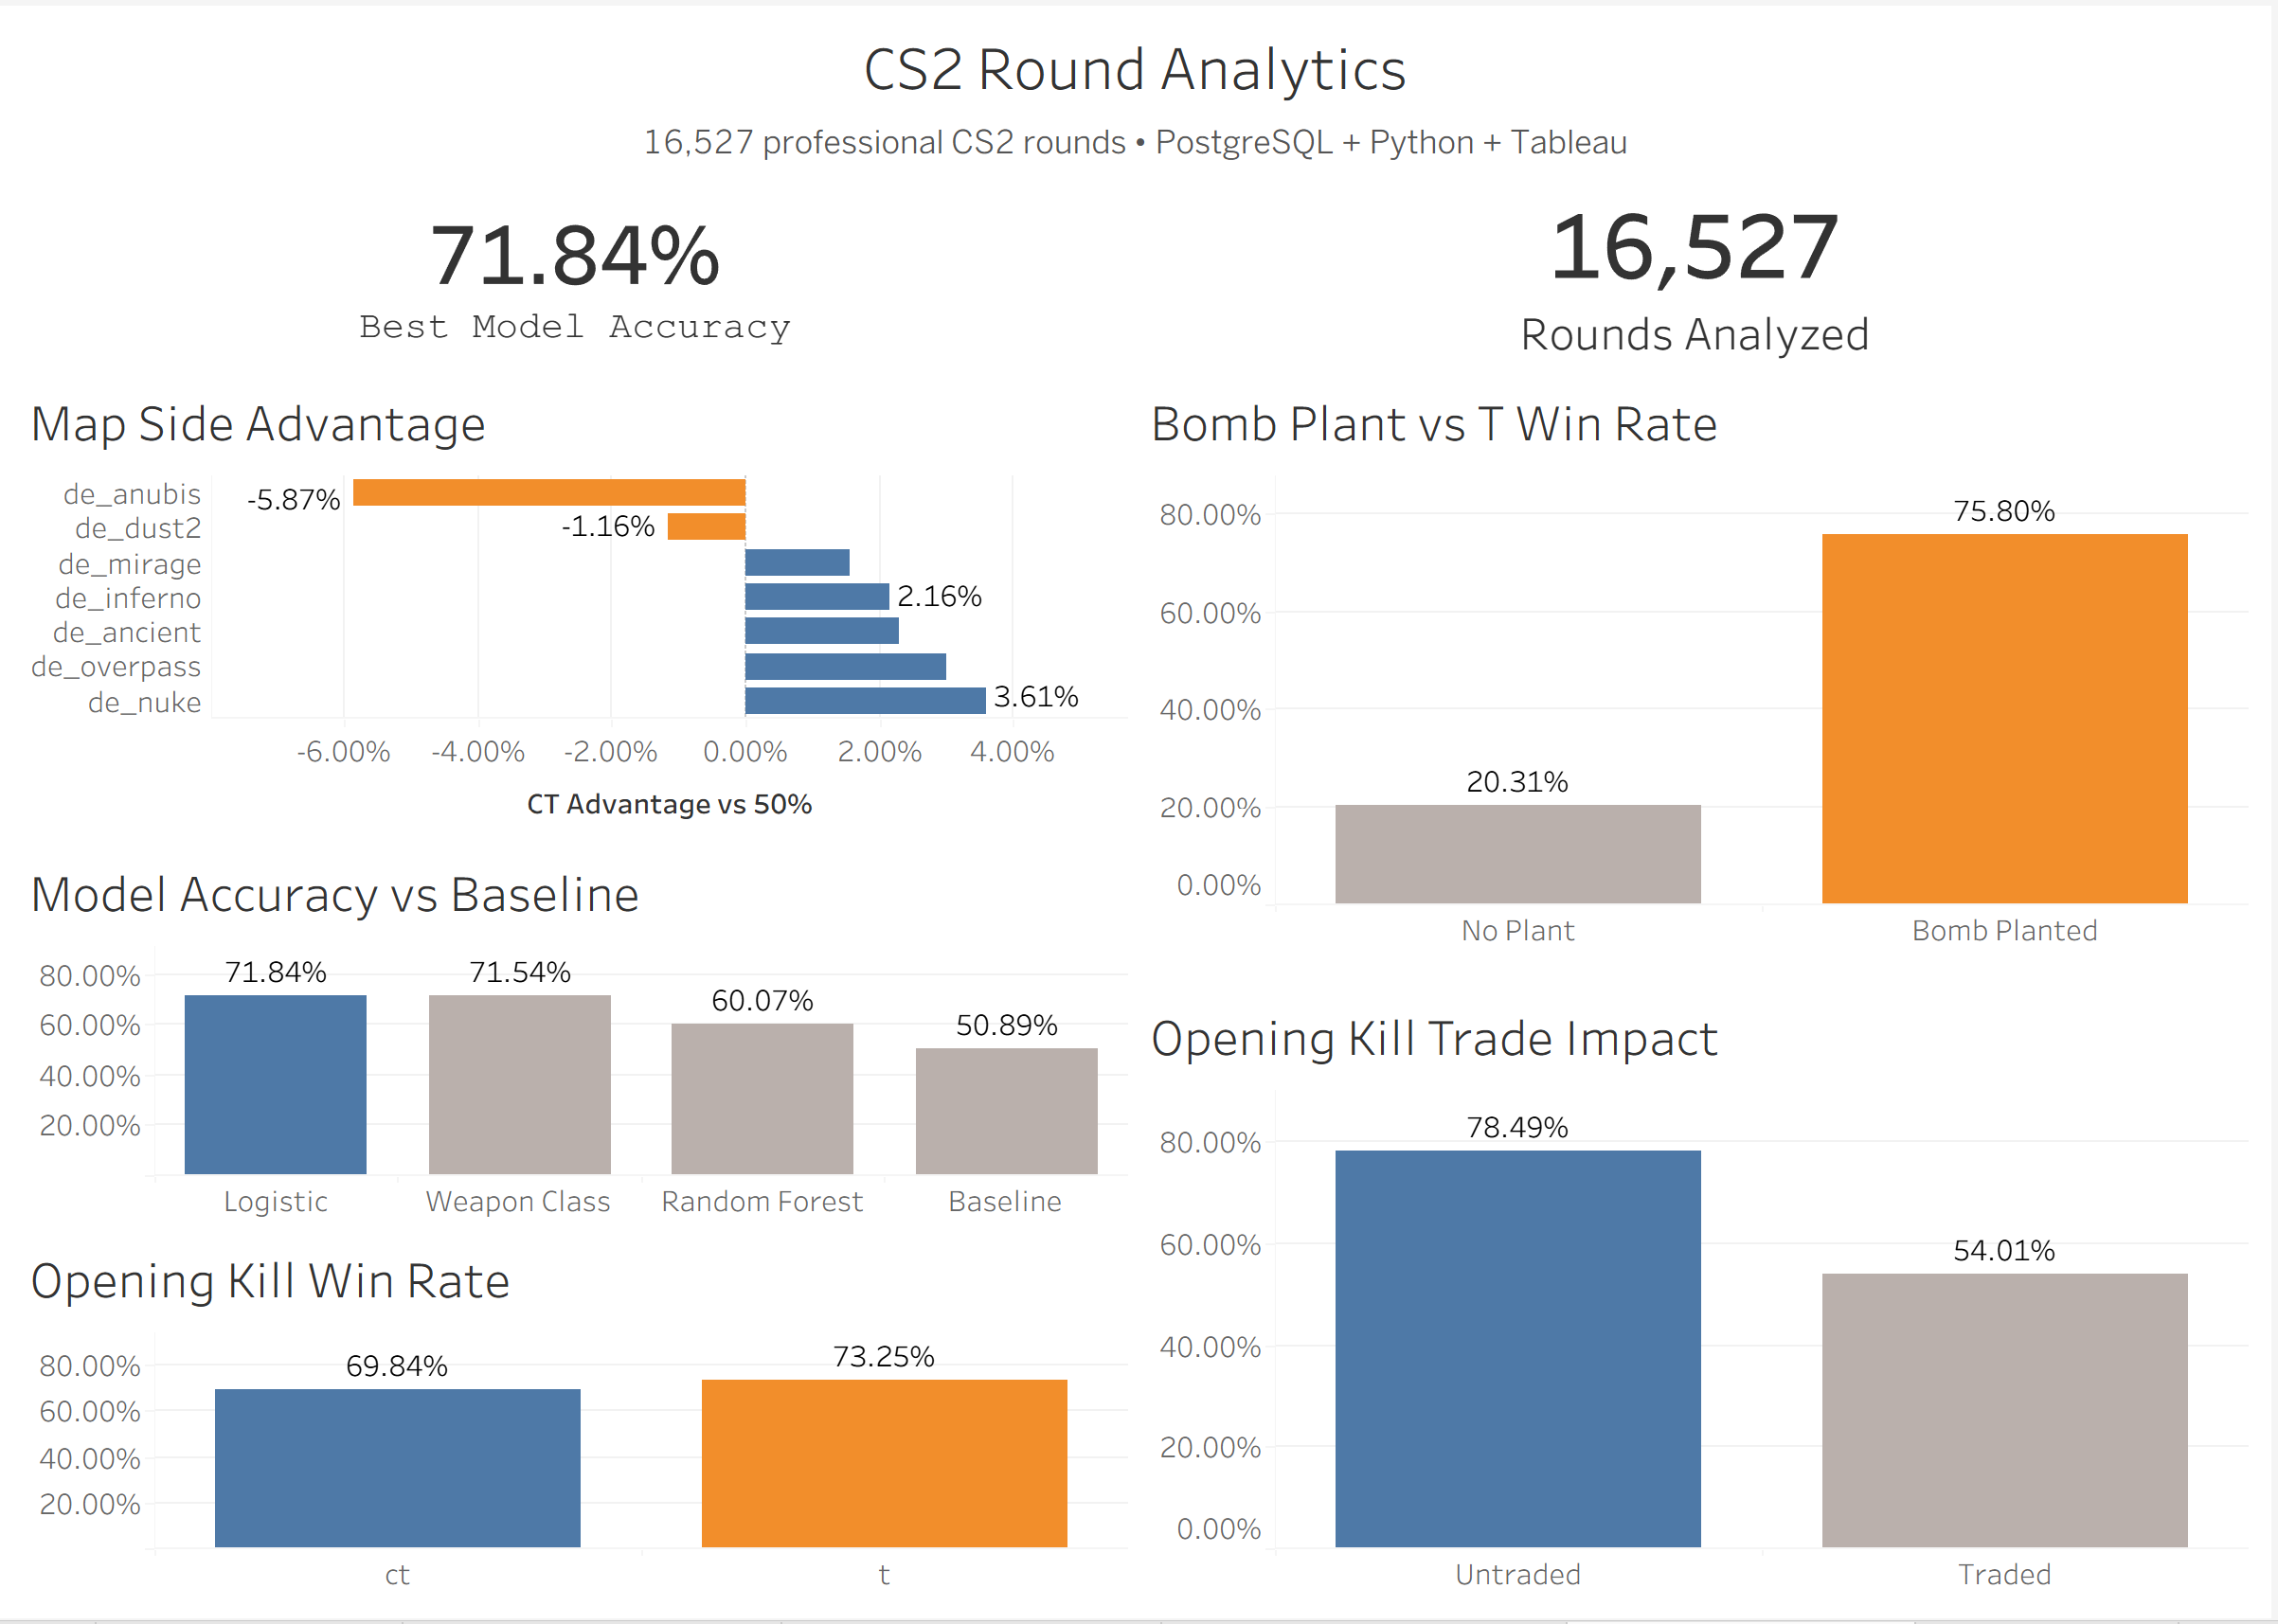

This screenshot's page, from the dashboard's own definition file:
{"tool":"tableau","page":{"name":"CS2 Round Analytics","canvas":[1000,1000],"units":"permille","ordinal":0},"visuals":[{"type":"title","box":[6.7,9.4,986.7,58.6]},{"type":"text","box":[6.7,68,986.7,35.2]},{"type":"worksheet","title":"Best Model Accuracy","mark":"Automatic","box":[6.7,103.2,493.3,125.4]},{"type":"worksheet","title":"Rounds Analyzed","mark":"Automatic","box":[500,103.2,493.3,125.4]},{"type":"worksheet","title":"Map Side Advantage","mark":"Automatic","rows":["map_name"],"cols":["Calculation_1301048659951619"],"box":[6.7,228.6,493.3,291.5]},{"type":"worksheet","title":"Bomb Plant vs T Win Rate","mark":"Automatic","rows":["Calculation_1301048655155202"],"cols":["has_bomb_plant"],"box":[500,228.6,493.3,380.8]},{"type":"worksheet","title":"Model Accuracy vs Baseline","mark":"Automatic","rows":["Accuracy"],"cols":["Model"],"box":[6.7,520.1,493.3,239.7]},{"type":"worksheet","title":"Opening Kill Trade Impact","mark":"Automatic","rows":["opening_side_won"],"cols":["opening_kill_traded"],"box":[500,609.4,493.3,381.2]},{"type":"worksheet","title":"Opening Kill Win Rate","mark":"Automatic","rows":["Calculation_1301048651792384"],"cols":["opening_kill_side"],"box":[6.7,759.8,493.3,230.8]}]}

Visuals, with their boxes on the dashboard's canvas, which has no fixed pixel size, in thousandths of its width and height (x1, y1, x2, y2). These are canvas units, not pixel positions in the 2278x1624 screenshot, which may show the page scaled, cropped or inside an application window:
title: {"x1": 7, "y1": 9, "x2": 993, "y2": 68}
text: {"x1": 7, "y1": 68, "x2": 993, "y2": 103}
"Best Model Accuracy" worksheet: {"x1": 7, "y1": 103, "x2": 500, "y2": 229}
"Rounds Analyzed" worksheet: {"x1": 500, "y1": 103, "x2": 993, "y2": 229}
"Map Side Advantage" worksheet: {"x1": 7, "y1": 229, "x2": 500, "y2": 520}
"Bomb Plant vs T Win Rate" worksheet: {"x1": 500, "y1": 229, "x2": 993, "y2": 609}
"Model Accuracy vs Baseline" worksheet: {"x1": 7, "y1": 520, "x2": 500, "y2": 760}
"Opening Kill Trade Impact" worksheet: {"x1": 500, "y1": 609, "x2": 993, "y2": 991}
"Opening Kill Win Rate" worksheet: {"x1": 7, "y1": 760, "x2": 500, "y2": 991}
